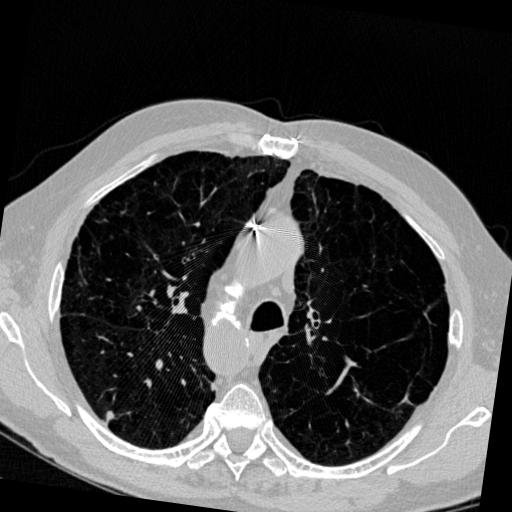nodule: (104, 408, 121, 425)
